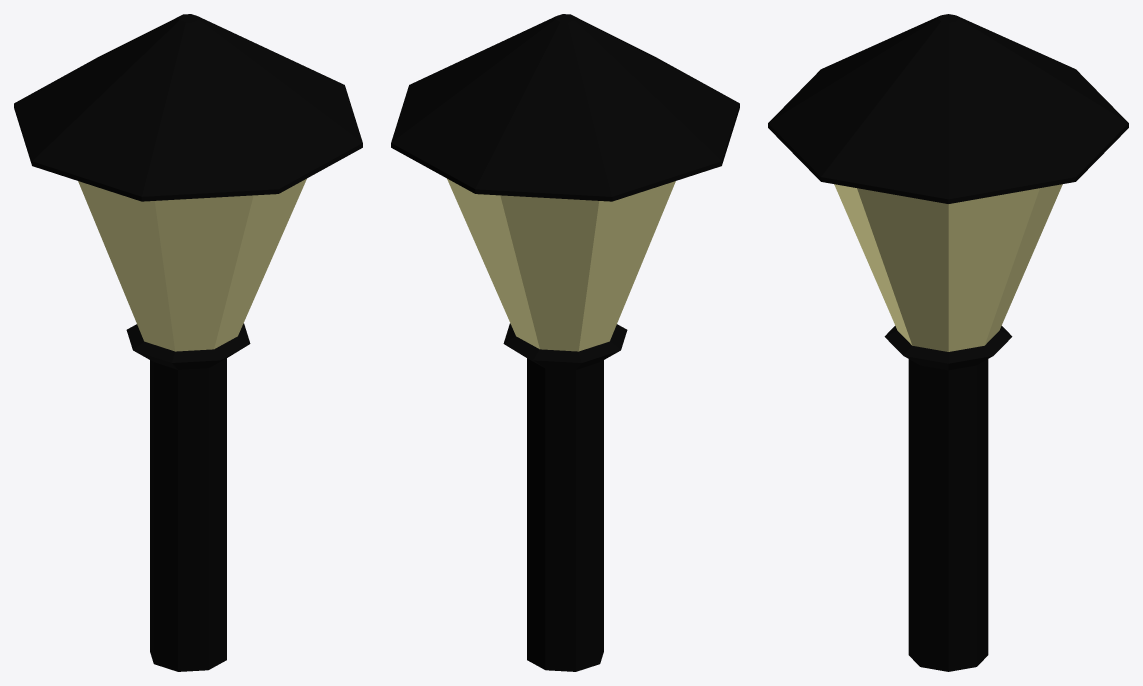
The model's file is garden-lamp.glb.
3 renders of one model, left to right at view 1: azimuth 30°, elevation 25°; view 2: azimuth 150°, elevation 25°; view 3: azimuth 270°, elevation 25°, orthographic.
Visible parts, largest first — view 1: GardenLamp1; view 2: GardenLamp1; view 3: GardenLamp1.
Boxes of the visible parts, x1=… form: GardenLamp1: x1=14, y1=14, x2=362, y2=671; GardenLamp1: x1=391, y1=14, x2=739, y2=671; GardenLamp1: x1=768, y1=14, x2=1128, y2=671.
Size of the model in its own units: 0.2744 by 0.5343 by 0.2744.
